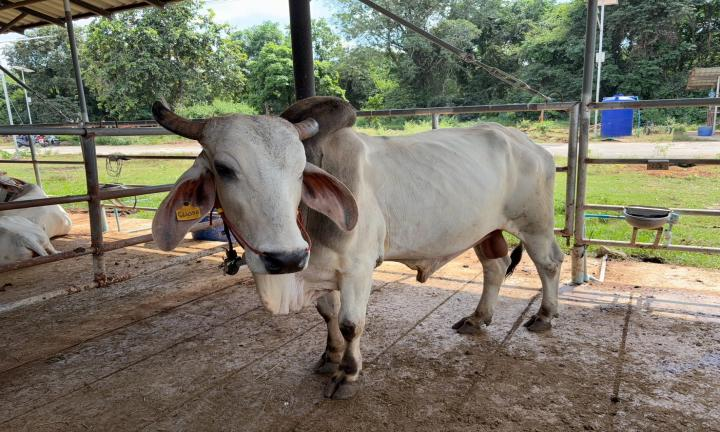Brahman: (152, 97, 564, 398)
